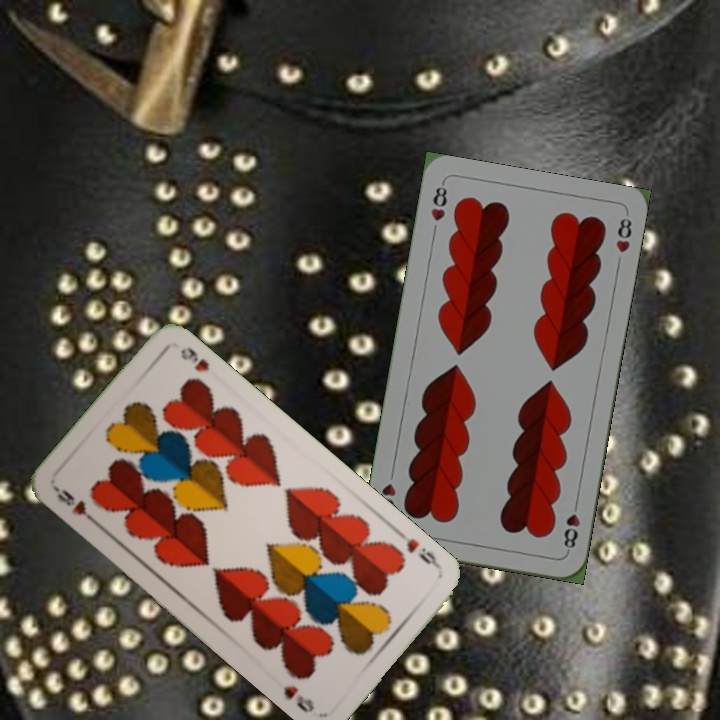H8: (559, 496, 583, 555), (427, 179, 450, 224)
H9: (394, 527, 444, 572), (51, 483, 100, 528)
